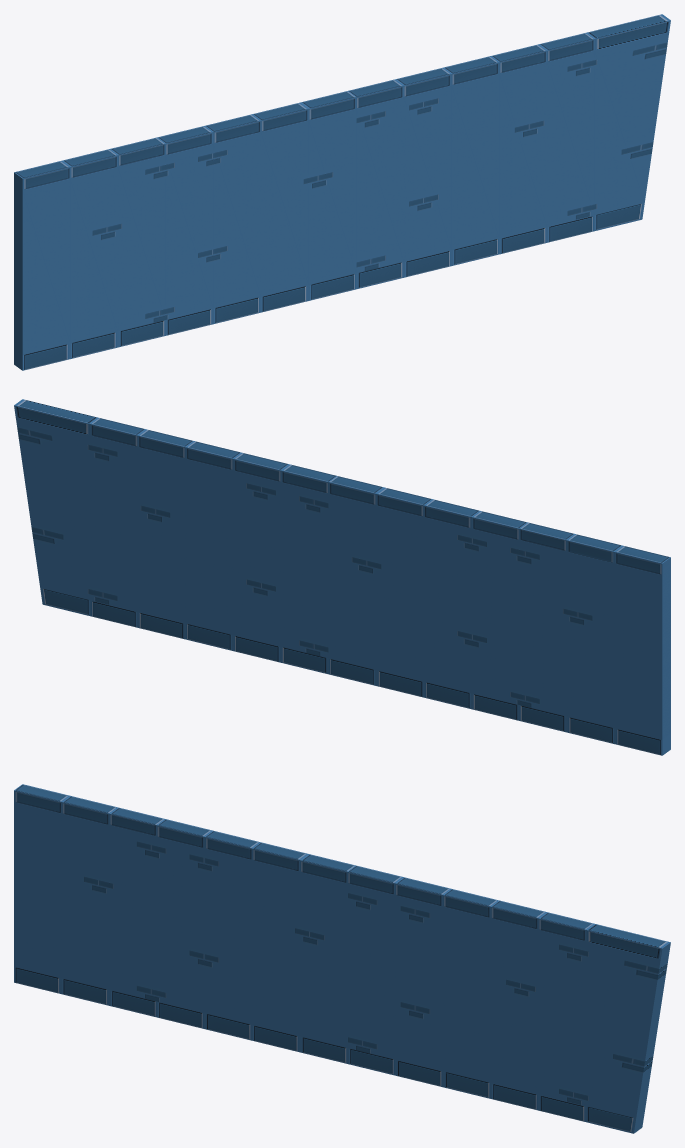
The model's file is Stena.fbx.
The picture shows the model from 3 angles, top to bottom: view 1: azimuth 30°, elevation 25°; view 2: azimuth 150°, elevation 25°; view 3: azimuth 330°, elevation 25°; orthographic projection.
Visible parts, largest first — view 1: Stena_big2; view 2: Stena_big2; view 3: Stena_big2.
Part boxes in pixels (<box>): Stena_big2: <box>14,14,670,370</box>; Stena_big2: <box>14,399,670,755</box>; Stena_big2: <box>14,784,670,1133</box>.
Bounding box in the file's own units: 4208 × 1192 × 96.3.
